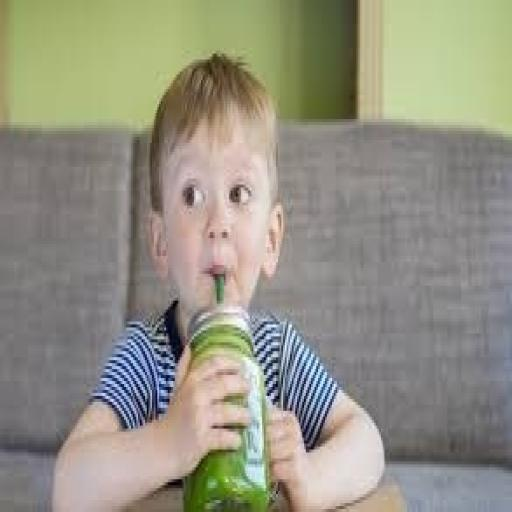drinking: (180, 271, 276, 509)
